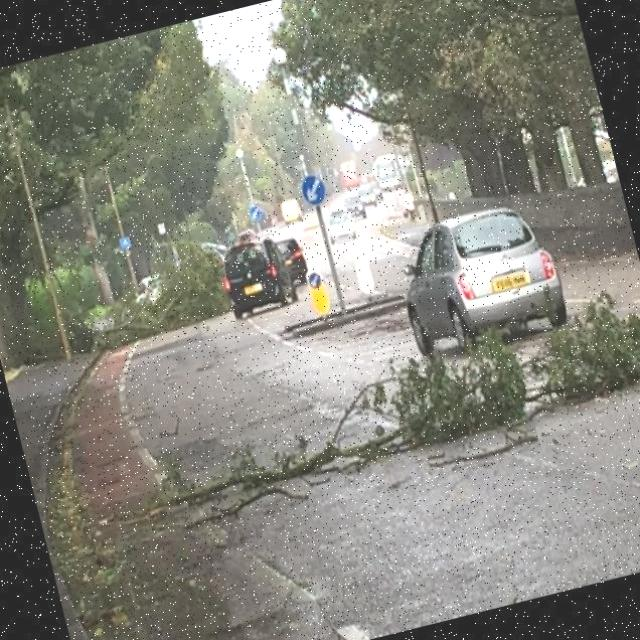fallen_object: (108, 292, 640, 559), (50, 261, 253, 362)
